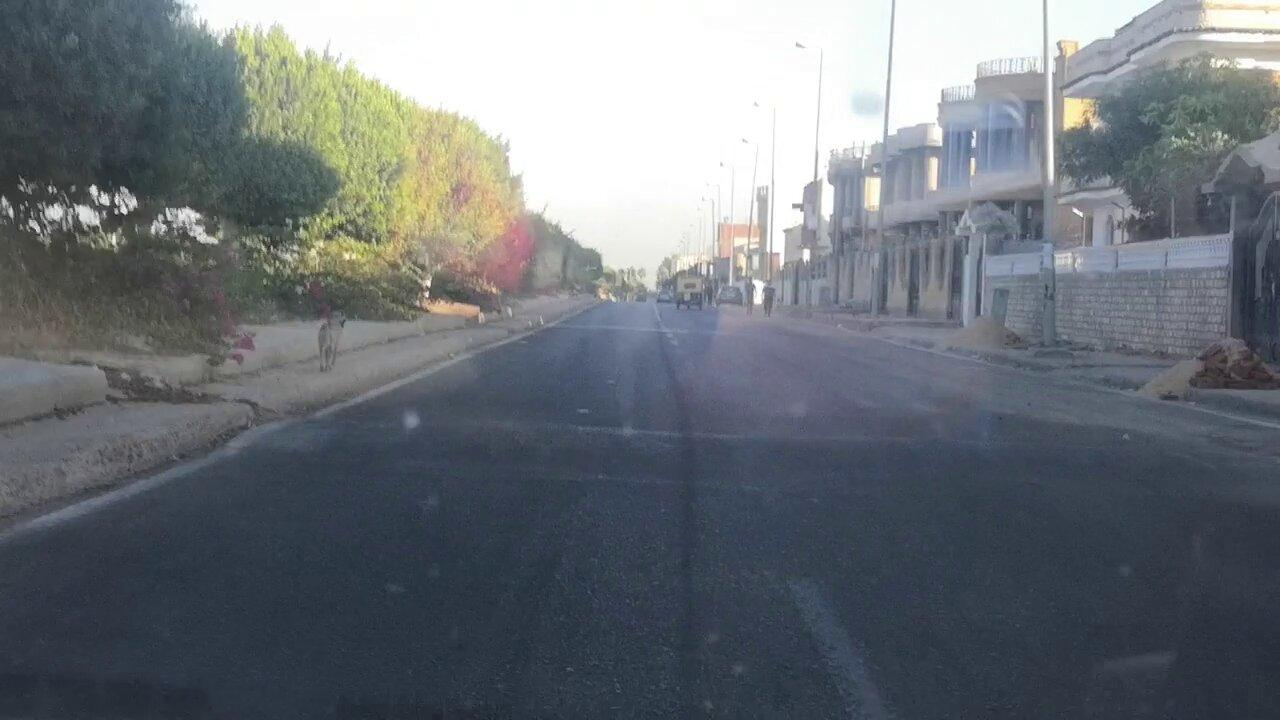Bump: (255, 415, 1277, 485)
